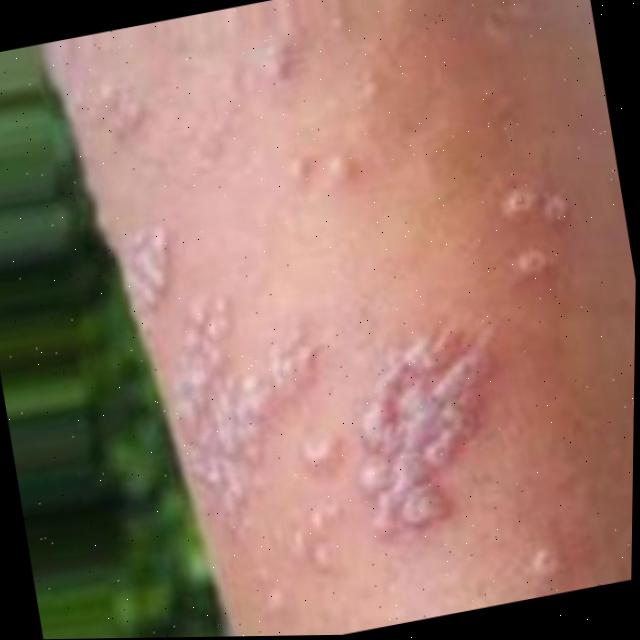Shingles: (136, 265, 365, 610), (325, 318, 525, 560), (494, 165, 589, 285), (104, 215, 183, 310), (521, 539, 566, 582)
